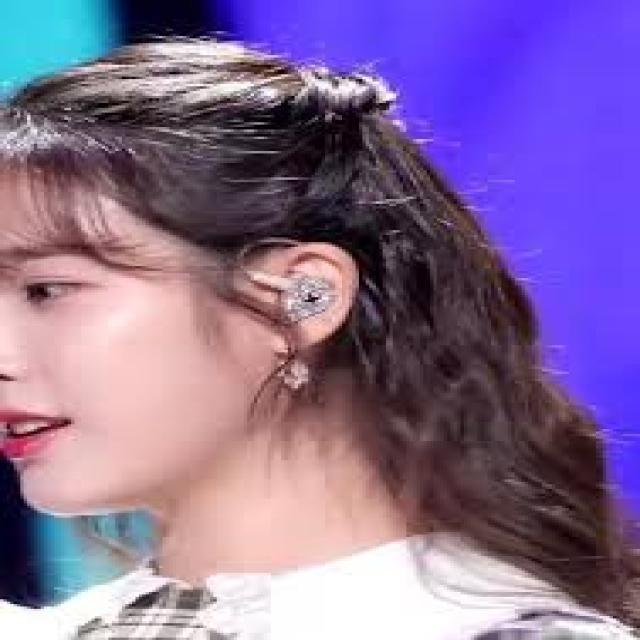earphone: (254, 261, 348, 330)
